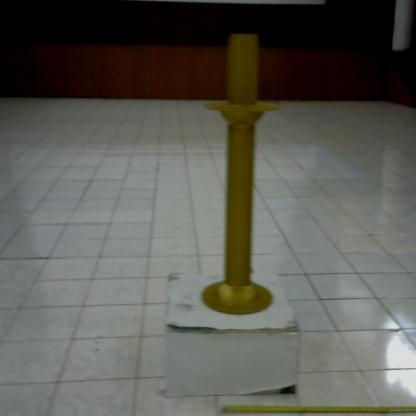pole: (197, 28, 281, 322)
